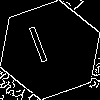I: (25, 25, 55, 73)
